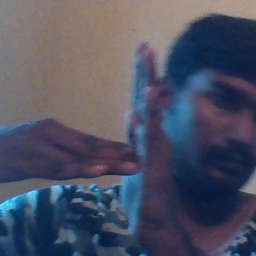Z: (54, 37, 181, 234)
